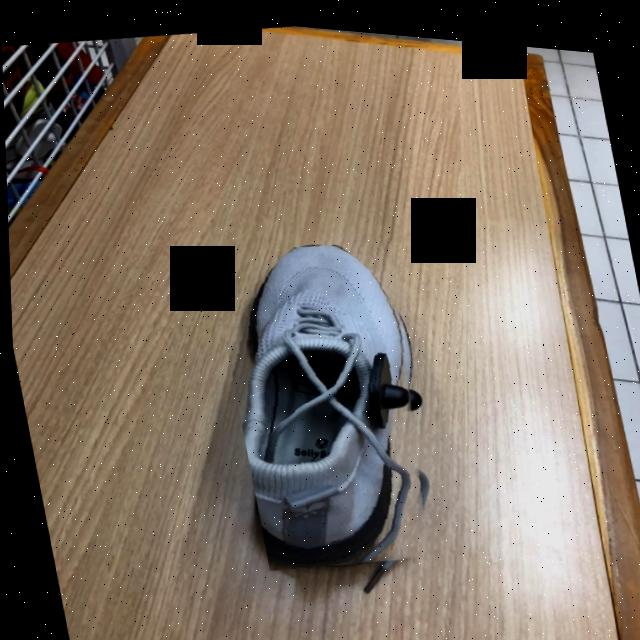shoe: (240, 239, 410, 563)
